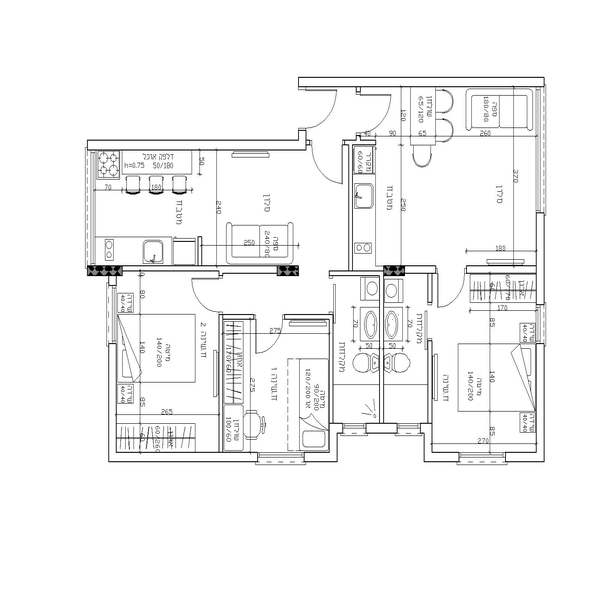door: (427, 258, 473, 308), (308, 139, 347, 197), (352, 86, 396, 130), (253, 315, 294, 357), (191, 278, 232, 317), (303, 86, 339, 127)
wall: (301, 74, 545, 90), (87, 137, 304, 149), (535, 343, 547, 463), (118, 454, 257, 464), (107, 342, 117, 464), (218, 311, 225, 453), (347, 139, 353, 275), (537, 214, 545, 306), (329, 316, 335, 429), (471, 265, 532, 275), (216, 264, 280, 273), (328, 423, 344, 457), (367, 422, 400, 437), (285, 313, 333, 322), (429, 450, 459, 464), (305, 452, 337, 465), (125, 266, 212, 270), (505, 453, 537, 463), (404, 265, 435, 274), (424, 424, 430, 462)
window: (531, 91, 549, 210), (83, 153, 100, 264), (106, 287, 118, 344), (257, 451, 301, 464), (460, 451, 500, 464), (343, 421, 364, 437), (537, 310, 546, 343), (402, 424, 420, 435)
